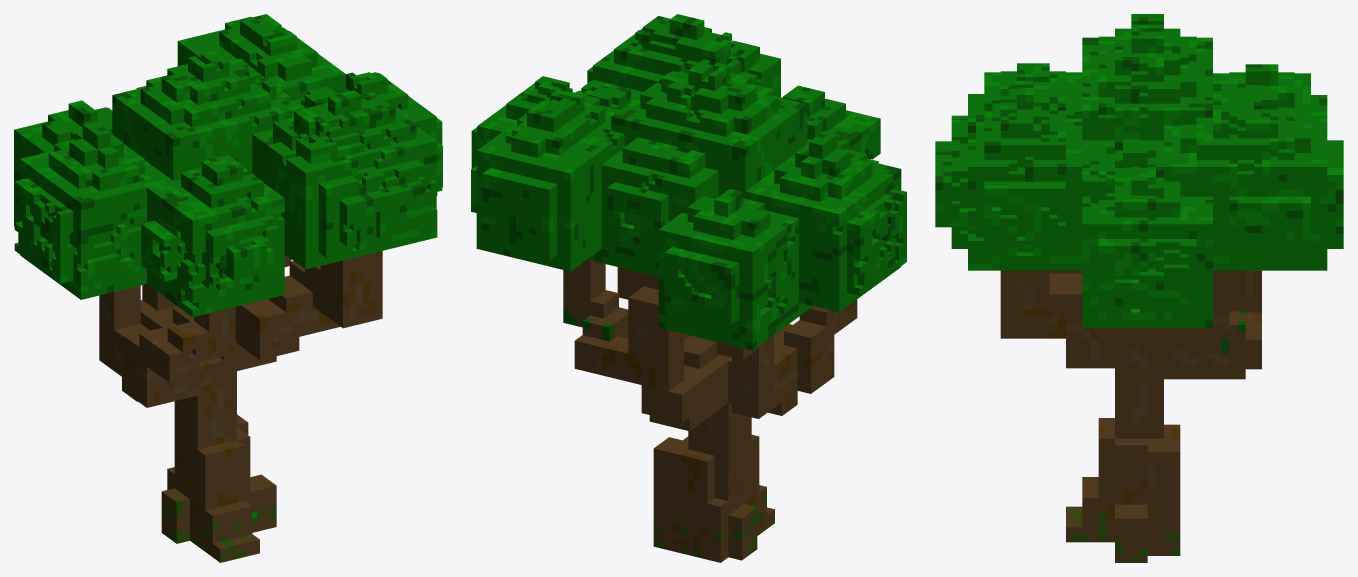
File: Tree.fbx
The picture shows the model from 3 angles, left to right: view 1: azimuth 30°, elevation 25°; view 2: azimuth 150°, elevation 25°; view 3: azimuth 270°, elevation 25°; orthographic projection. The views are drawn at different scales.
Parts seen in each view (by area): view 1: House1-26; view 2: House1-26; view 3: House1-26.
Boxes of the visible parts, x1=… form: House1-26: x1=14, y1=14, x2=442, y2=562; House1-26: x1=471, y1=14, x2=906, y2=562; House1-26: x1=935, y1=14, x2=1343, y2=562.
Size of the model in its own units: 1160 by 1360 by 1000.
1 material, 1 textured.
